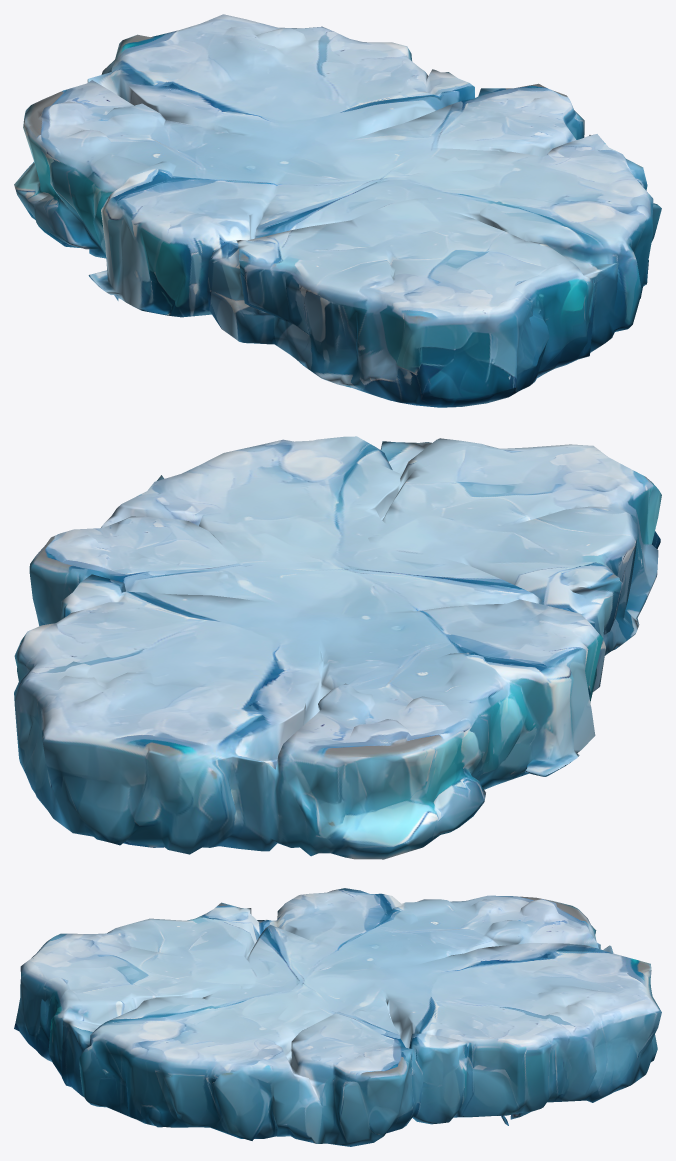
The model's file is DriftIce.obj.
The picture shows the model from 3 angles, top to bottom: view 1: azimuth 30°, elevation 25°; view 2: azimuth 150°, elevation 25°; view 3: azimuth 270°, elevation 25°; orthographic projection. The views are drawn at different scales.
Visible parts, largest first — view 1: tripo_node_fb97d727-77e5-4f51-99a5-a8a62dad0244; view 2: tripo_node_fb97d727-77e5-4f51-99a5-a8a62dad0244; view 3: tripo_node_fb97d727-77e5-4f51-99a5-a8a62dad0244.
Boxes of the visible parts, x1,y1,x2,y2 form: tripo_node_fb97d727-77e5-4f51-99a5-a8a62dad0244: (14,14,661,407); tripo_node_fb97d727-77e5-4f51-99a5-a8a62dad0244: (14,436,661,859); tripo_node_fb97d727-77e5-4f51-99a5-a8a62dad0244: (14,888,661,1146).
Bounding box in the file's own units: 0.6982 × 0.172 × 1.
Materials: 1 (1 with a texture image).
